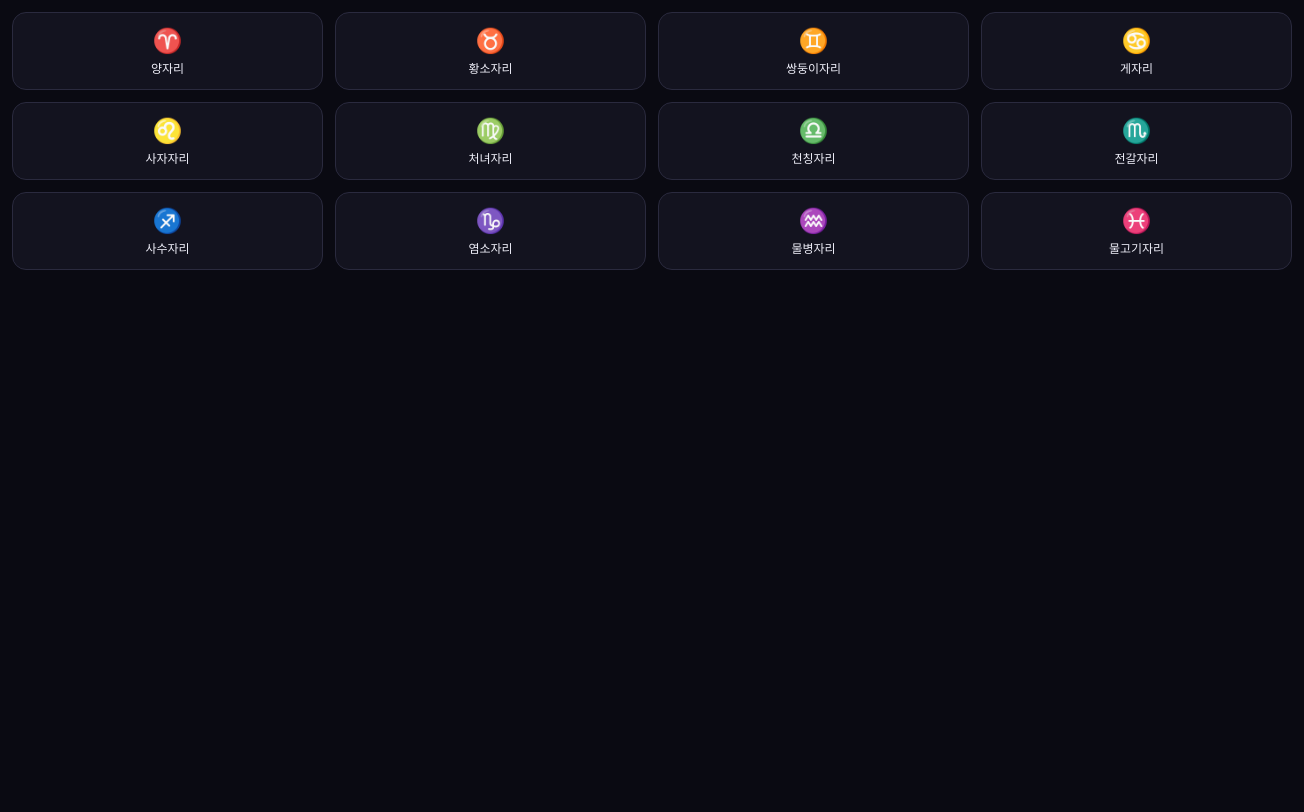
Test: ZodiacSelector › 다른 버튼 클릭 시 이전 운세가 사라지고 새 운세가 표시된다
Click the button "♈ 양자리".
click(168, 51)  # box [12, 12, 323, 90]
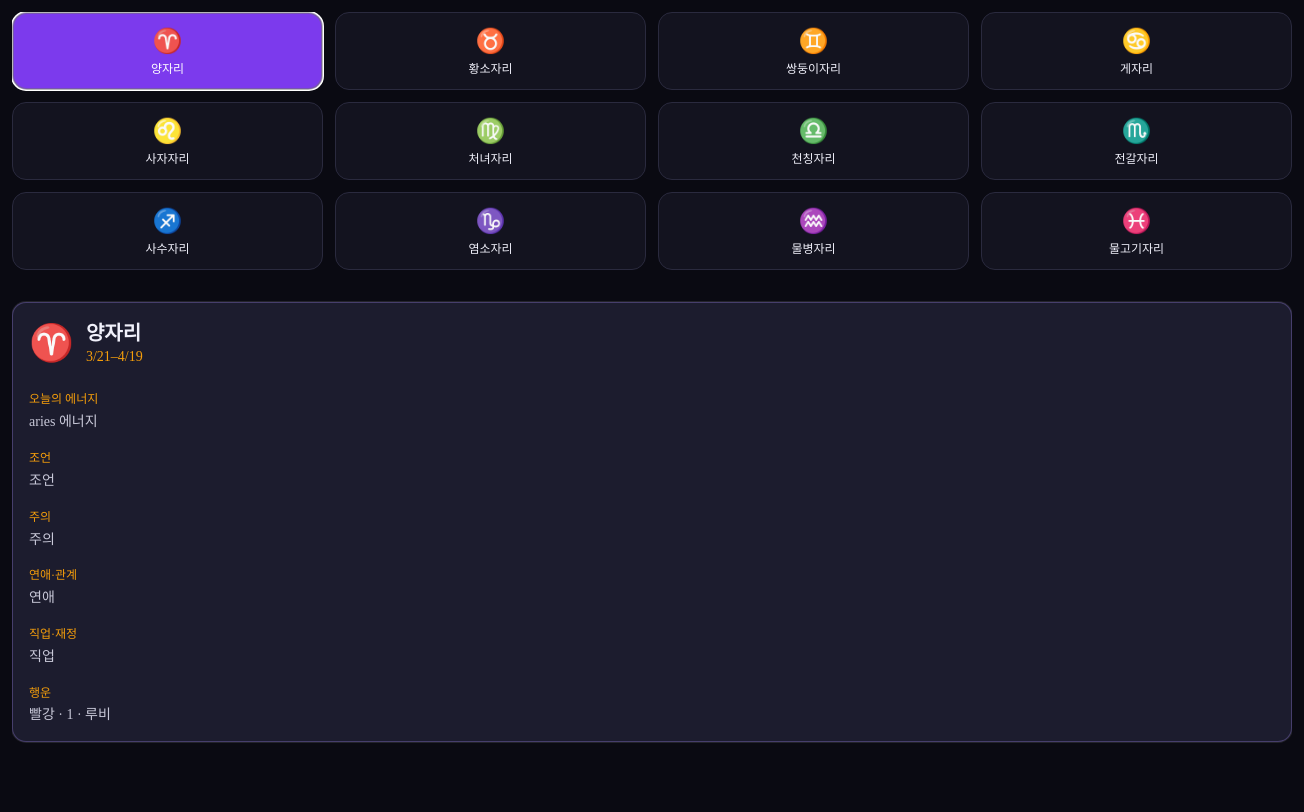
Click the button "♉ 황소자리".
click(490, 51)  # box [335, 12, 646, 90]
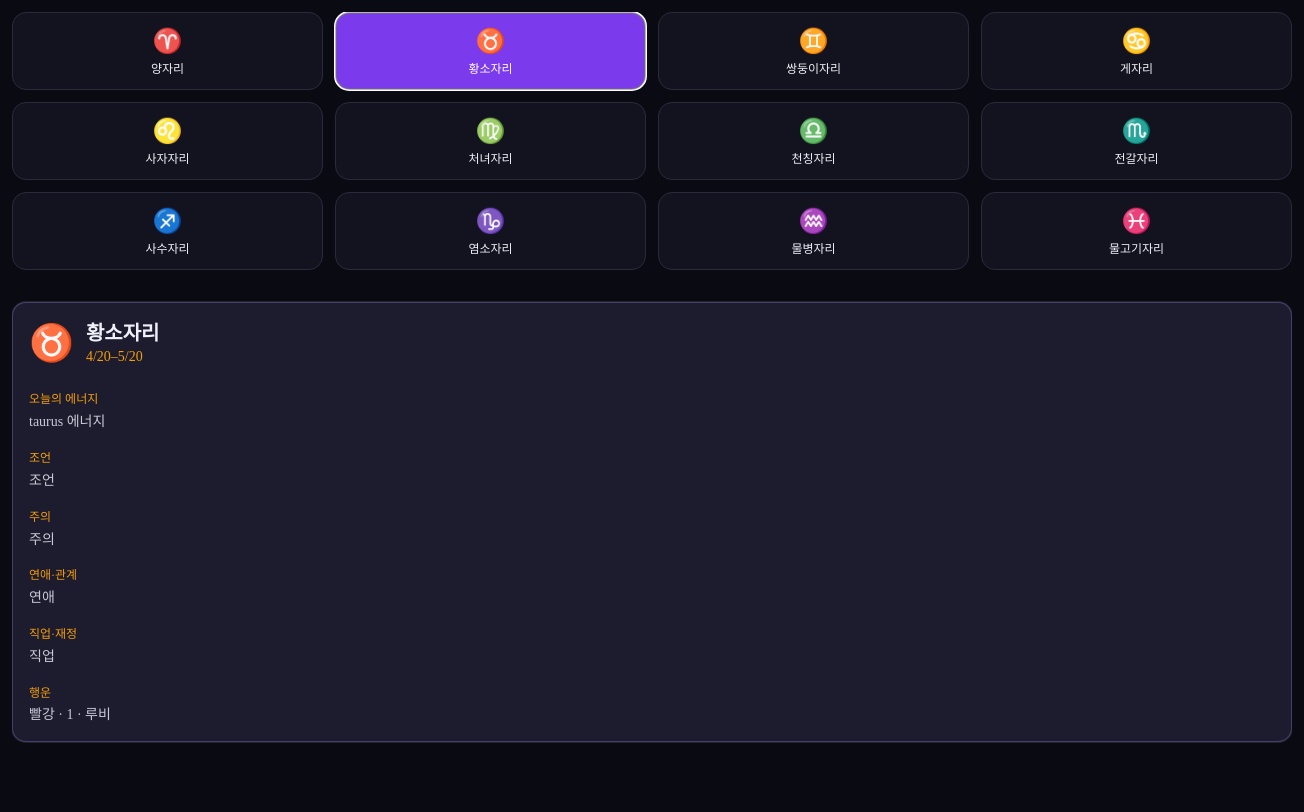
Expected: the text "aries 에너지" is gone
Expected: the text "taurus 에너지" is shown, [29, 414, 105, 429]
